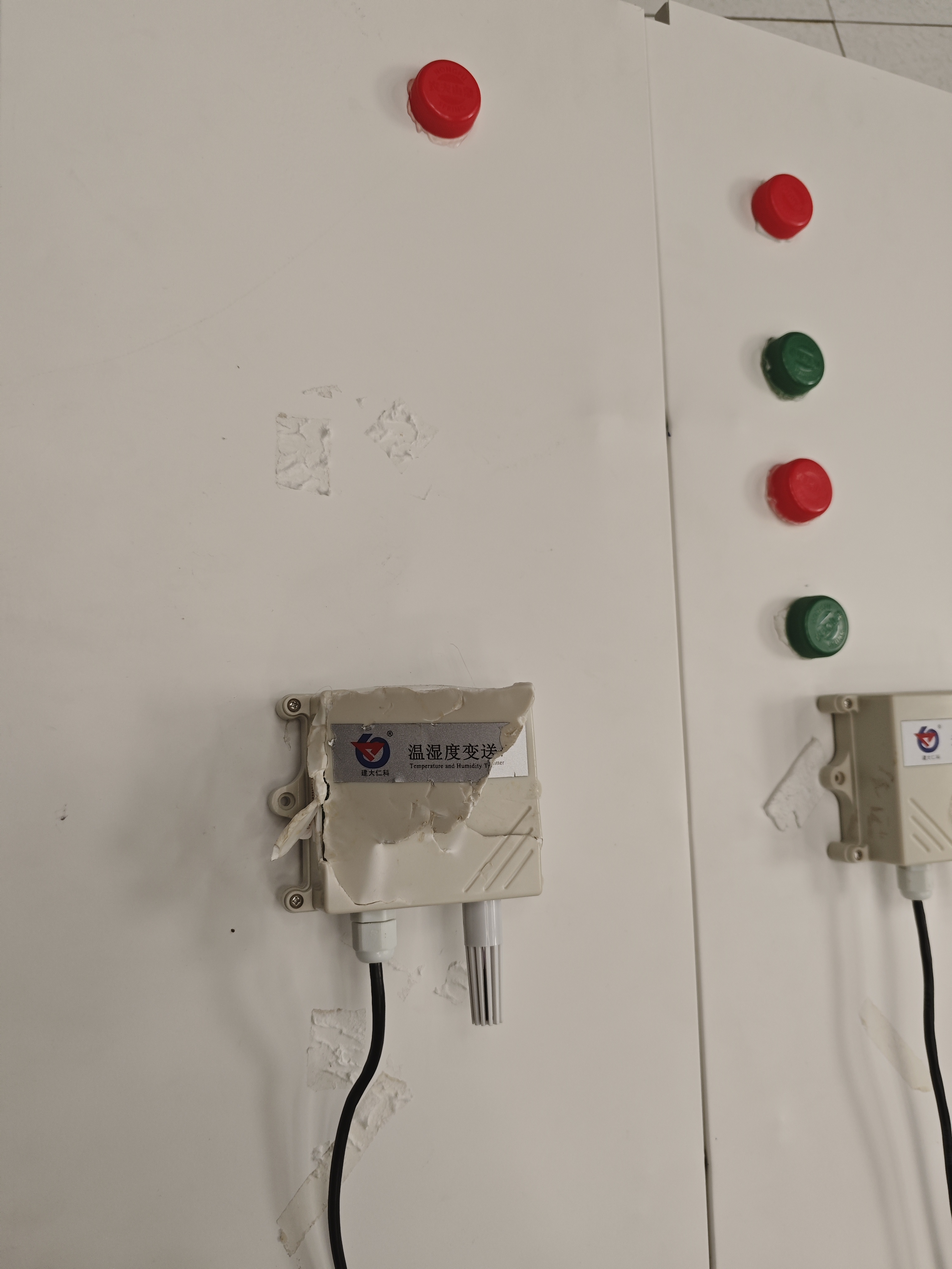red_warning: (386, 35, 548, 180), (748, 433, 856, 557), (741, 135, 837, 254)
sensor_damage: (240, 648, 584, 1072)
